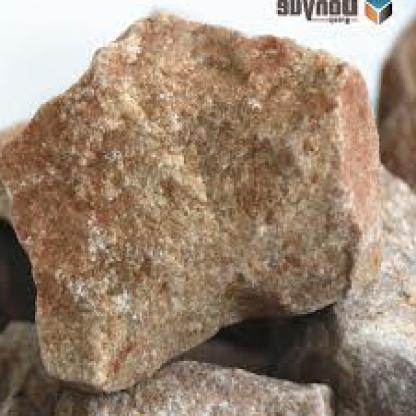Metamorphic_Quartize: (2, 0, 383, 396)
